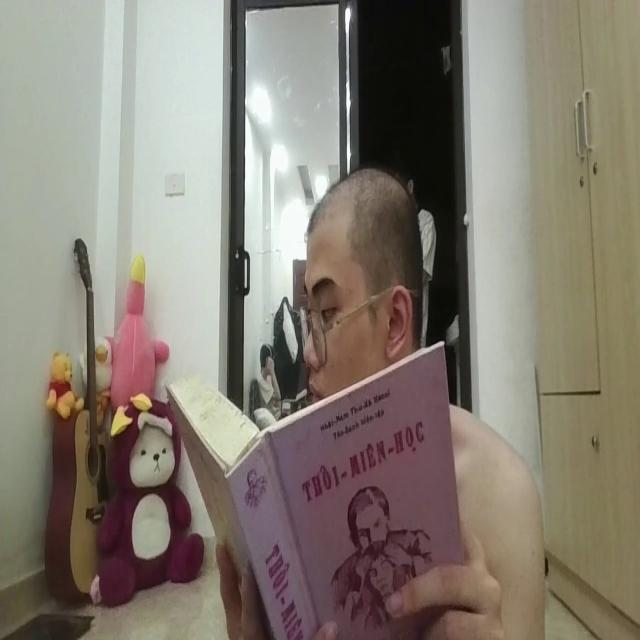book: (172, 336, 462, 636)
extra_person: (254, 336, 280, 406)
student: (301, 158, 426, 393)
